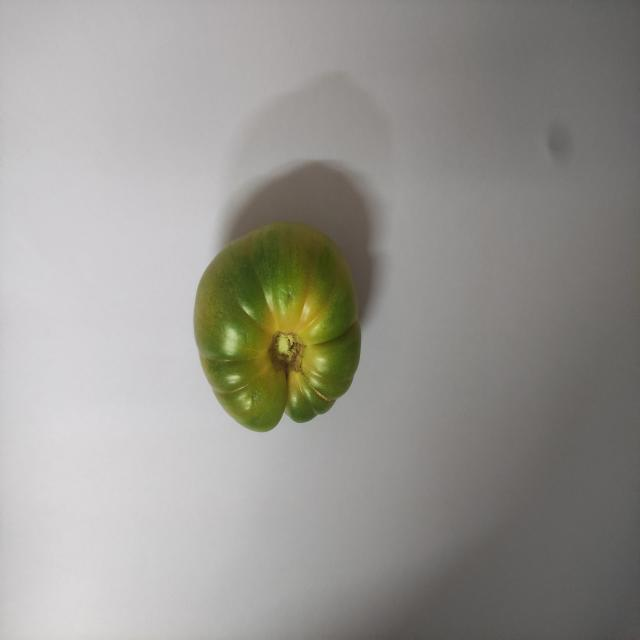yesil: (184, 208, 368, 459)
